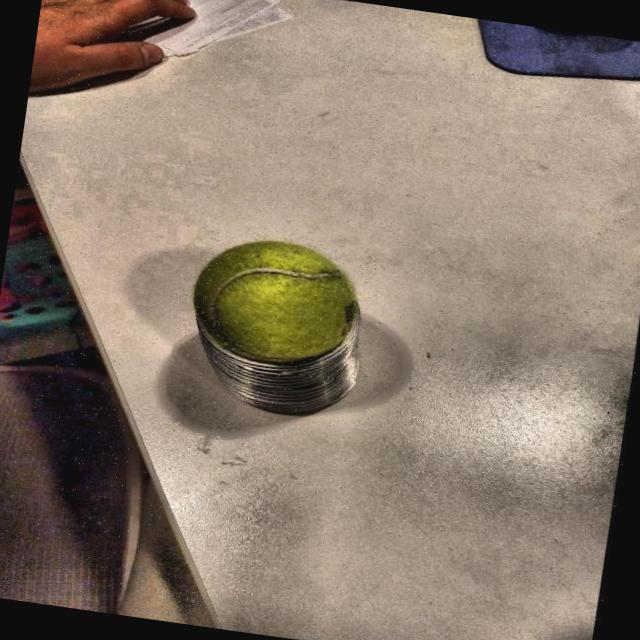Tennis Ball: (169, 222, 390, 388)
